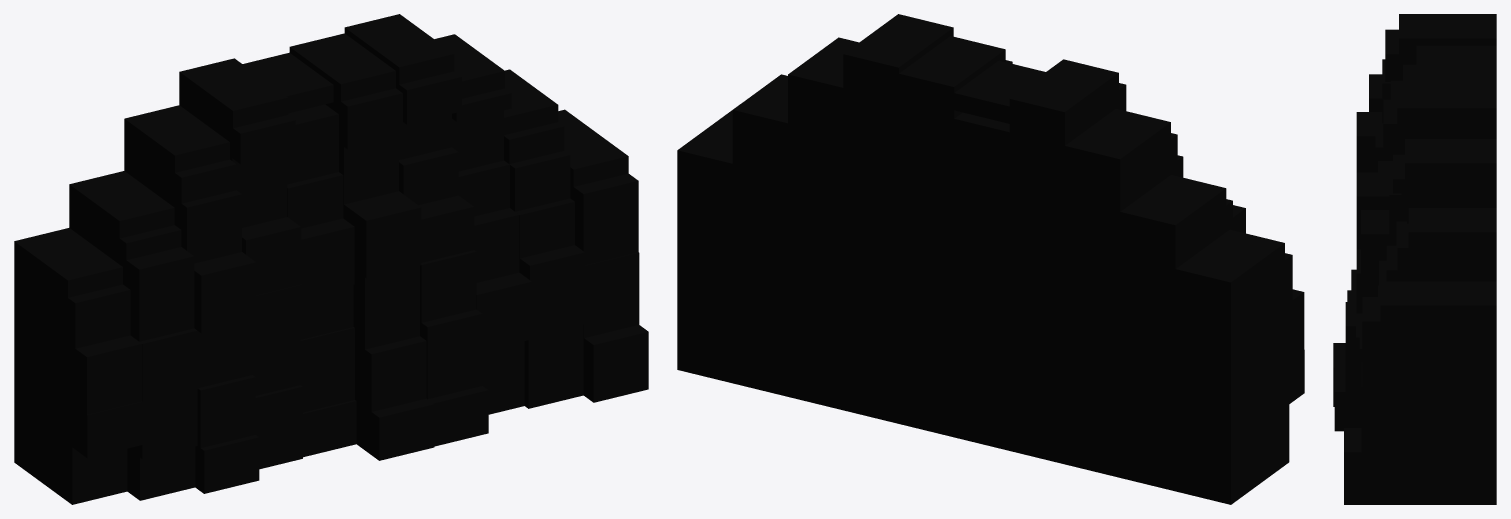
The model's file is IceCliffWall.obj.
The picture shows the model from 3 angles, left to right: view 1: azimuth 30°, elevation 25°; view 2: azimuth 150°, elevation 25°; view 3: azimuth 270°, elevation 25°; orthographic projection. The views are drawn at different scales.
Visible parts, largest first — view 1: IceCliffWall; view 2: IceCliffWall; view 3: IceCliffWall.
Boxes of the visible parts, x1,y1,x2,y2 form: IceCliffWall: (14,14,648,504); IceCliffWall: (677,14,1304,504); IceCliffWall: (1333,14,1496,504).
Bounding box in the file's own units: 20 × 12.3 × 5.64.
